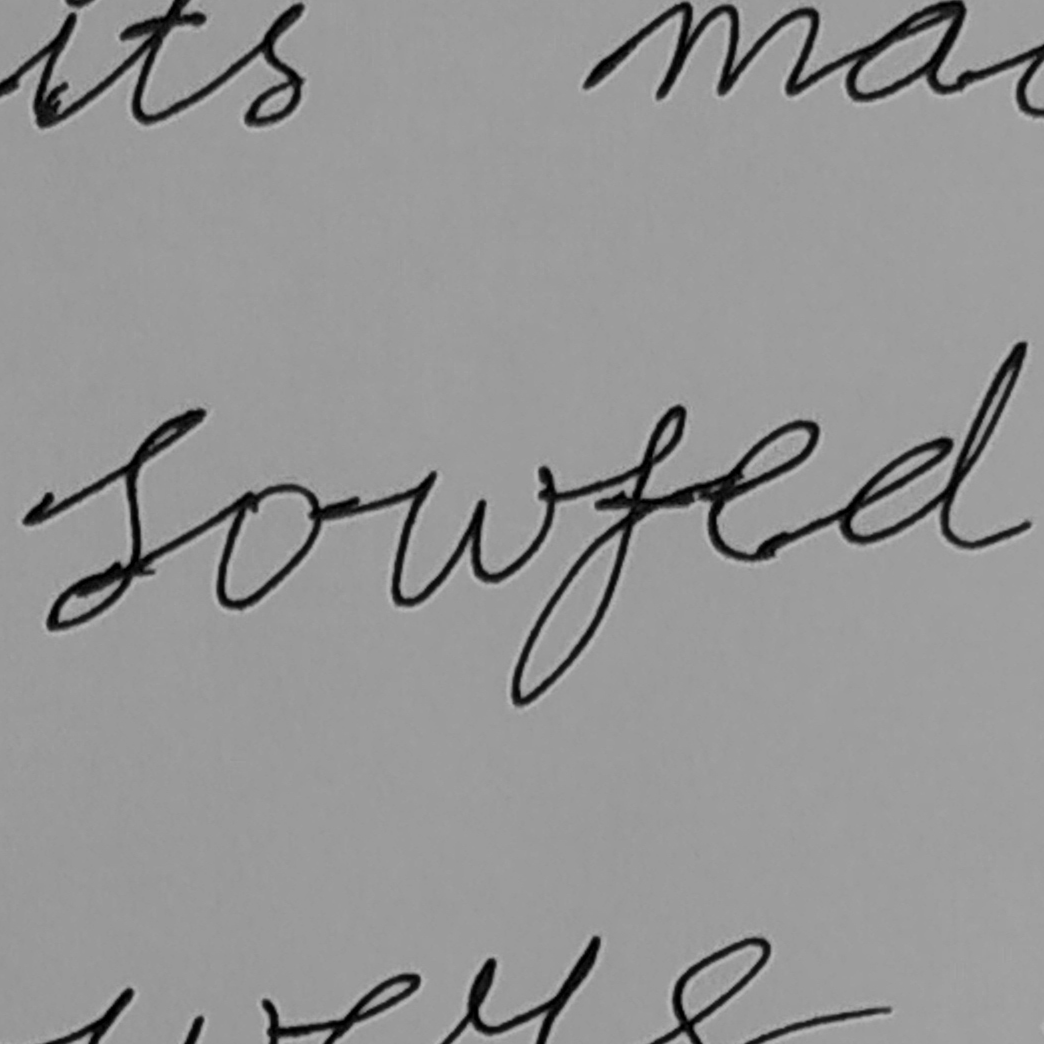d: (835, 336, 1034, 553)
e: (703, 415, 824, 565)
f: (505, 400, 690, 710)
o: (210, 478, 327, 613)
s: (19, 403, 208, 634)
w: (385, 461, 561, 609)
